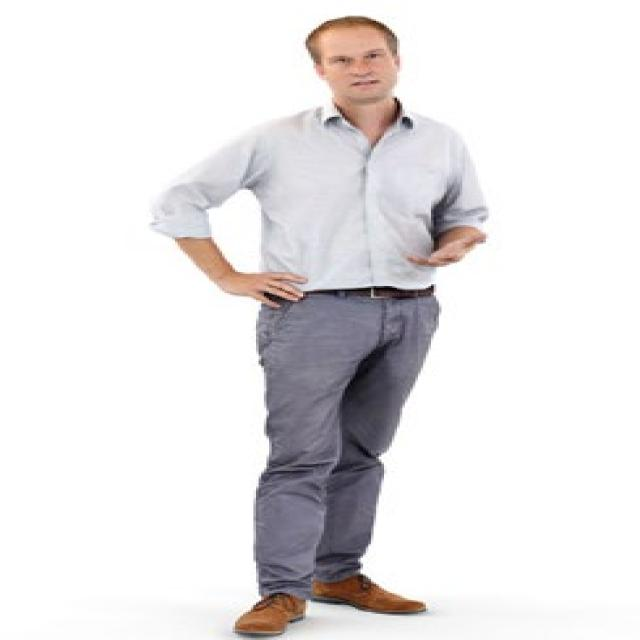standing: (156, 14, 498, 640)
